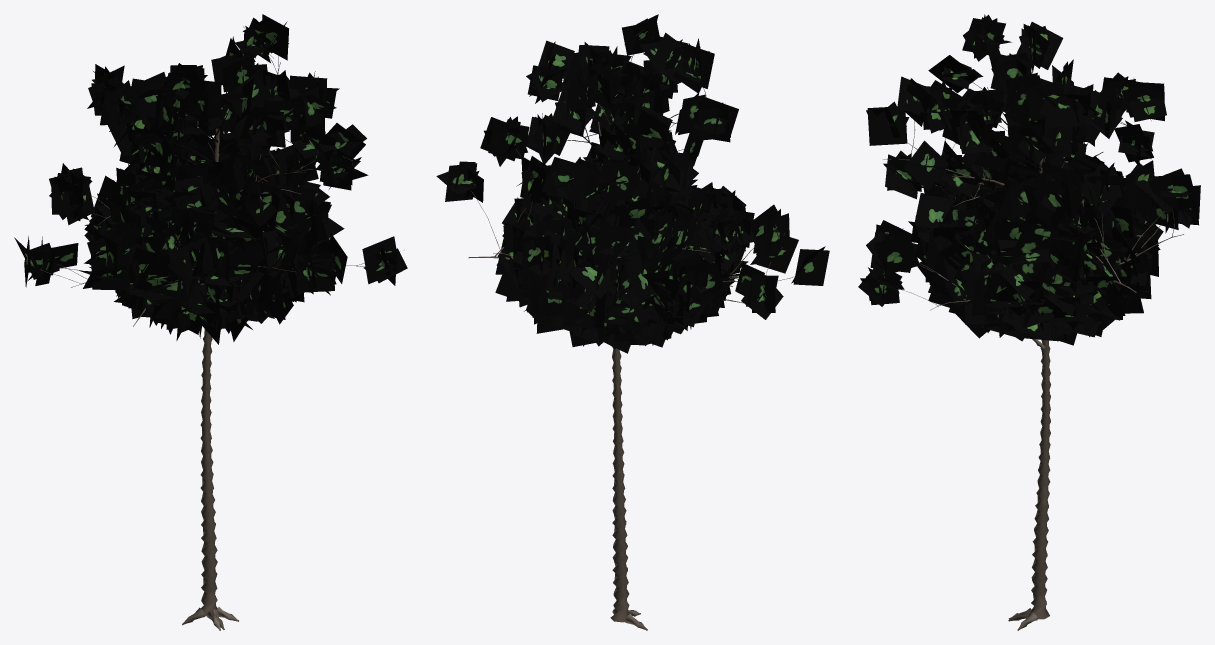
File: SM_Tree_Broadleaf_02.fbx
3 renders of one model, left to right at view 1: azimuth 30°, elevation 25°; view 2: azimuth 150°, elevation 25°; view 3: azimuth 270°, elevation 25°, orthographic. The views are drawn at different scales.
Parts seen in each view (by area): view 1: SM_Tree_Broadleaf_02; view 2: SM_Tree_Broadleaf_02; view 3: SM_Tree_Broadleaf_02.
Boxes of the visible parts, x1,y1,x2,y2 form: SM_Tree_Broadleaf_02: (14, 14, 407, 630); SM_Tree_Broadleaf_02: (436, 14, 829, 630); SM_Tree_Broadleaf_02: (858, 14, 1200, 630).
Bounding box in the file's own units: 8.93 × 15.36 × 8.21.
